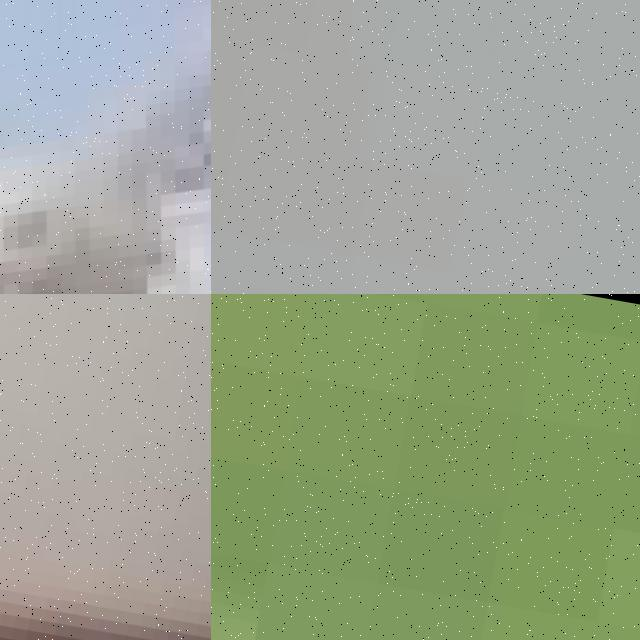drone: (0, 0, 211, 294)
